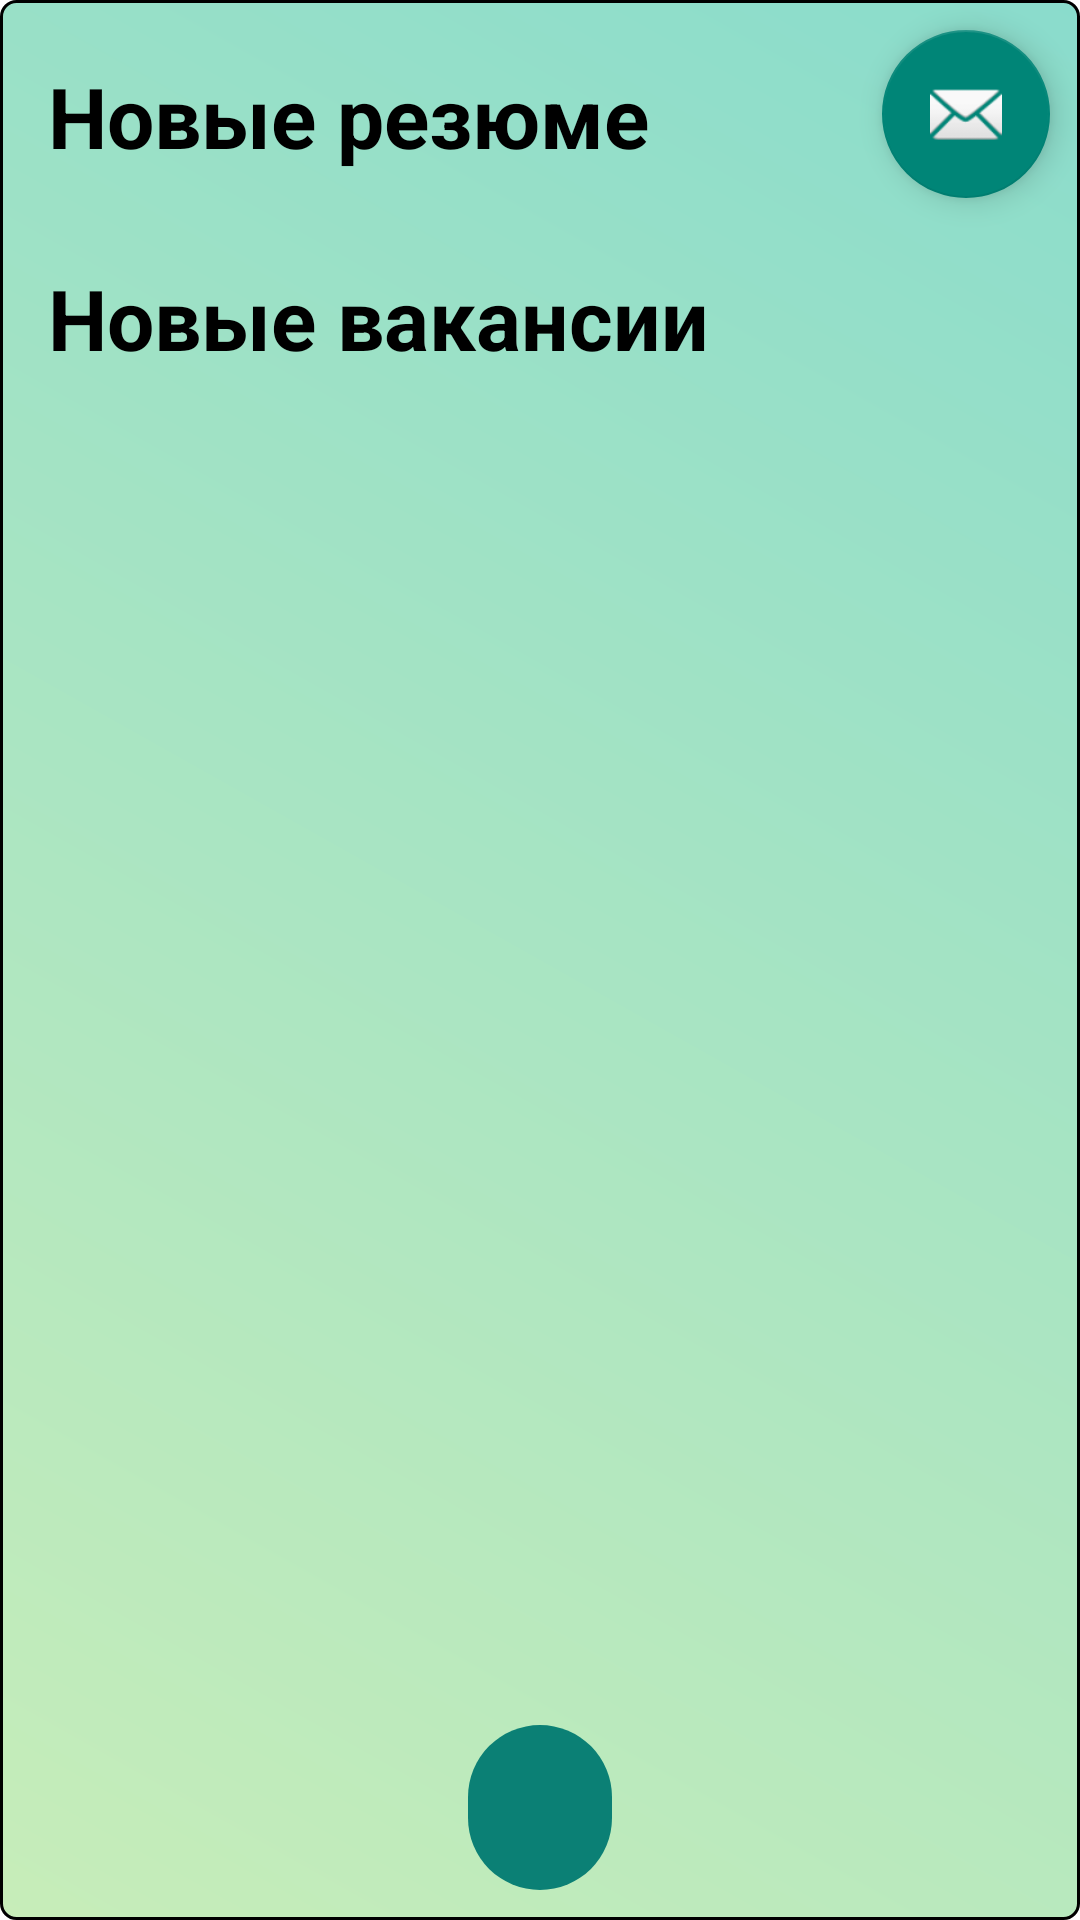

Point at icon controls on the screen. Image size 1080×1920, points as (x=x, y=y).
email: (x=966, y=114)
